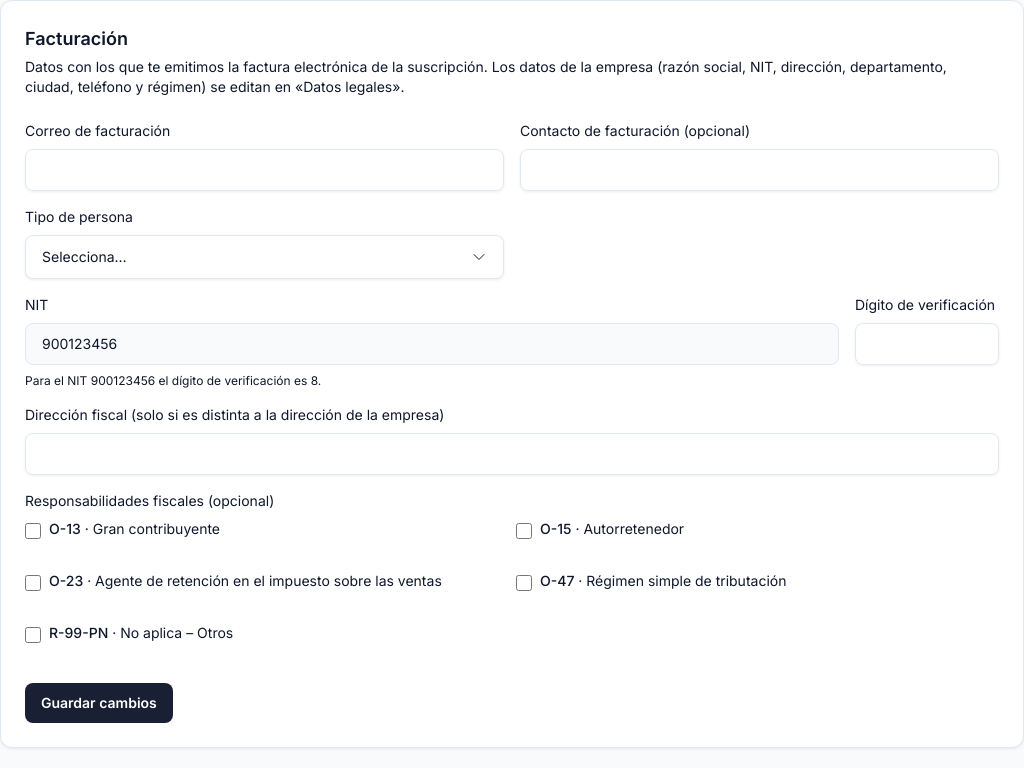
Test: SettingsBillingFormComponent › correo y tipo de persona › el tipo de persona se elige con el selector personalizado
The image size is (1024, 768).
Click the dropdown labelled "Selecciona…": (84, 256) [25,235,504,279]
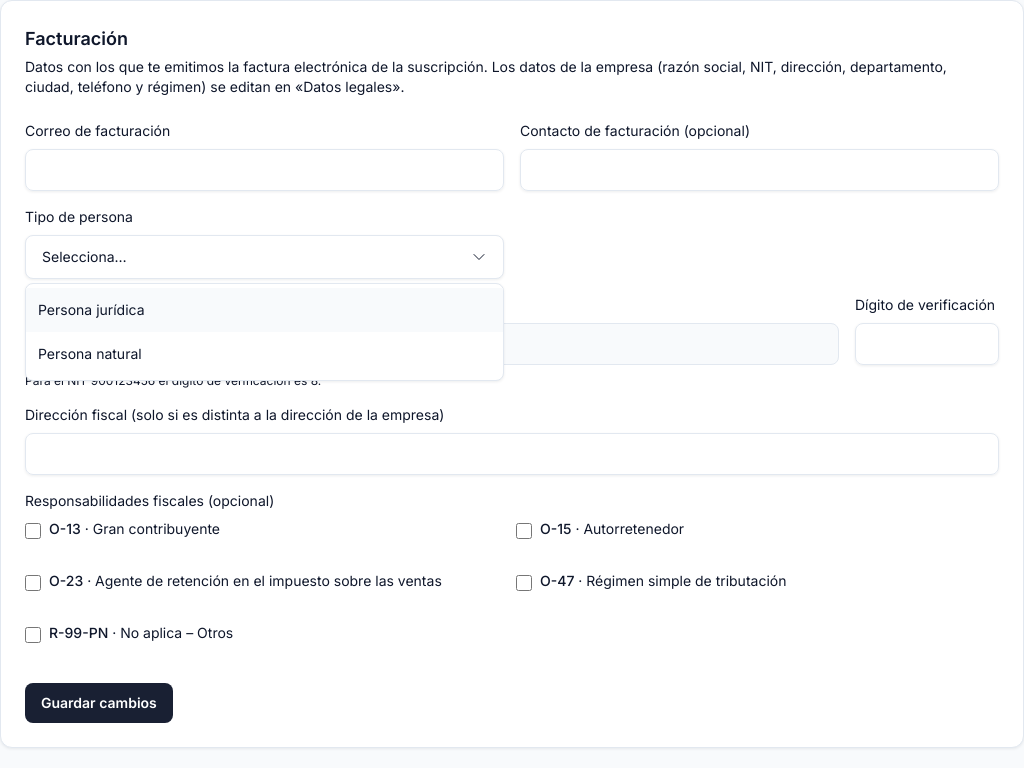
Click the option "Persona natural": (90, 354) [38,345,142,362]
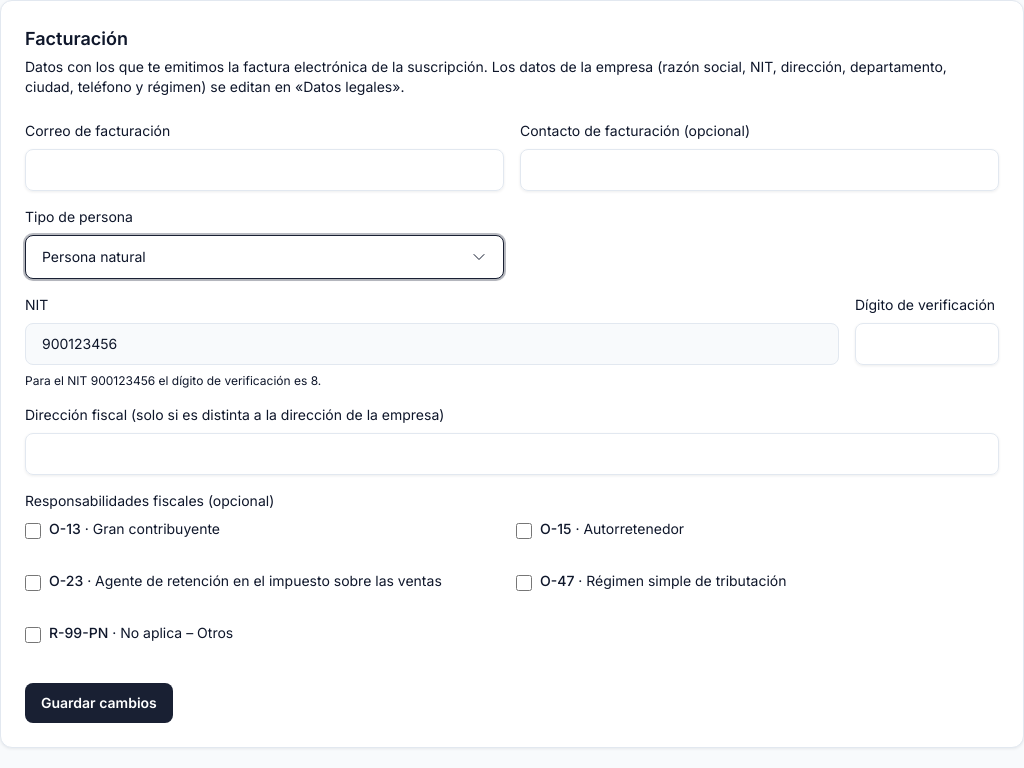
Now the dropdown labelled "Persona natural" is shown, box [25,235,504,279]
